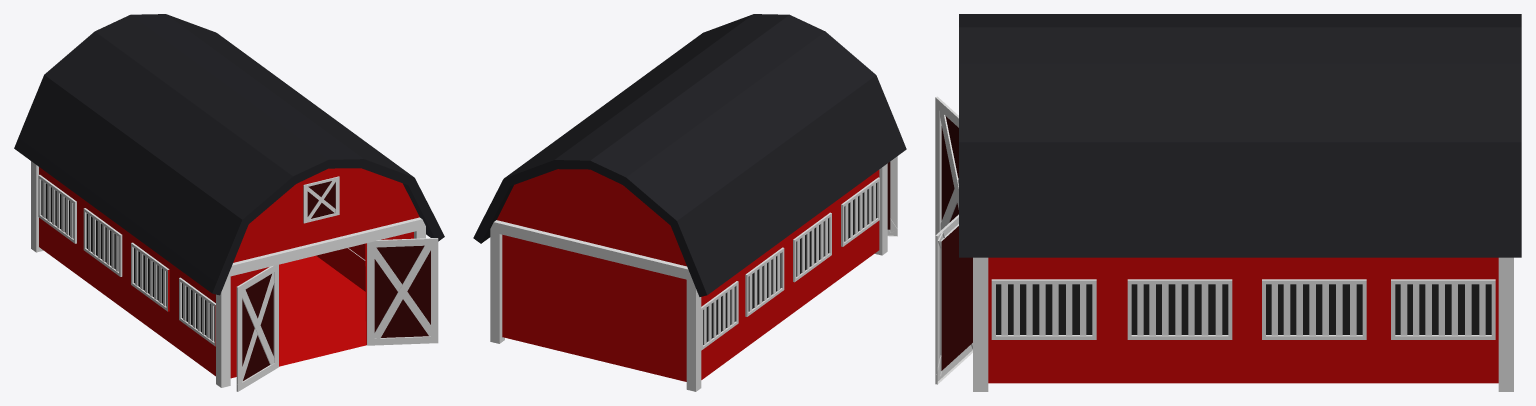
The model's file is farm1.fbx.
The picture shows the model from 3 angles, left to right: view 1: azimuth 30°, elevation 25°; view 2: azimuth 150°, elevation 25°; view 3: azimuth 270°, elevation 25°; orthographic projection. The views are drawn at different scales.
Parts seen in each view (by area): view 1: FRP_Bld_Barn_02.001, FRP_Bld_Barn_02.002; view 2: FRP_Bld_Barn_02.001, FRP_Bld_Barn_02.002; view 3: FRP_Bld_Barn_02.001, FRP_Bld_Barn_02.002.
Boxes of the visible parts, x1,y1,x2,y2 form: FRP_Bld_Barn_02.001: [14, 14, 444, 295]; FRP_Bld_Barn_02.002: [31, 161, 438, 391]; FRP_Bld_Barn_02.001: [473, 14, 906, 296]; FRP_Bld_Barn_02.002: [490, 156, 897, 391]; FRP_Bld_Barn_02.001: [959, 14, 1521, 257]; FRP_Bld_Barn_02.002: [935, 96, 1513, 391].
Bounding box in the file's own units: 9.32 × 7.92 × 14.33.
